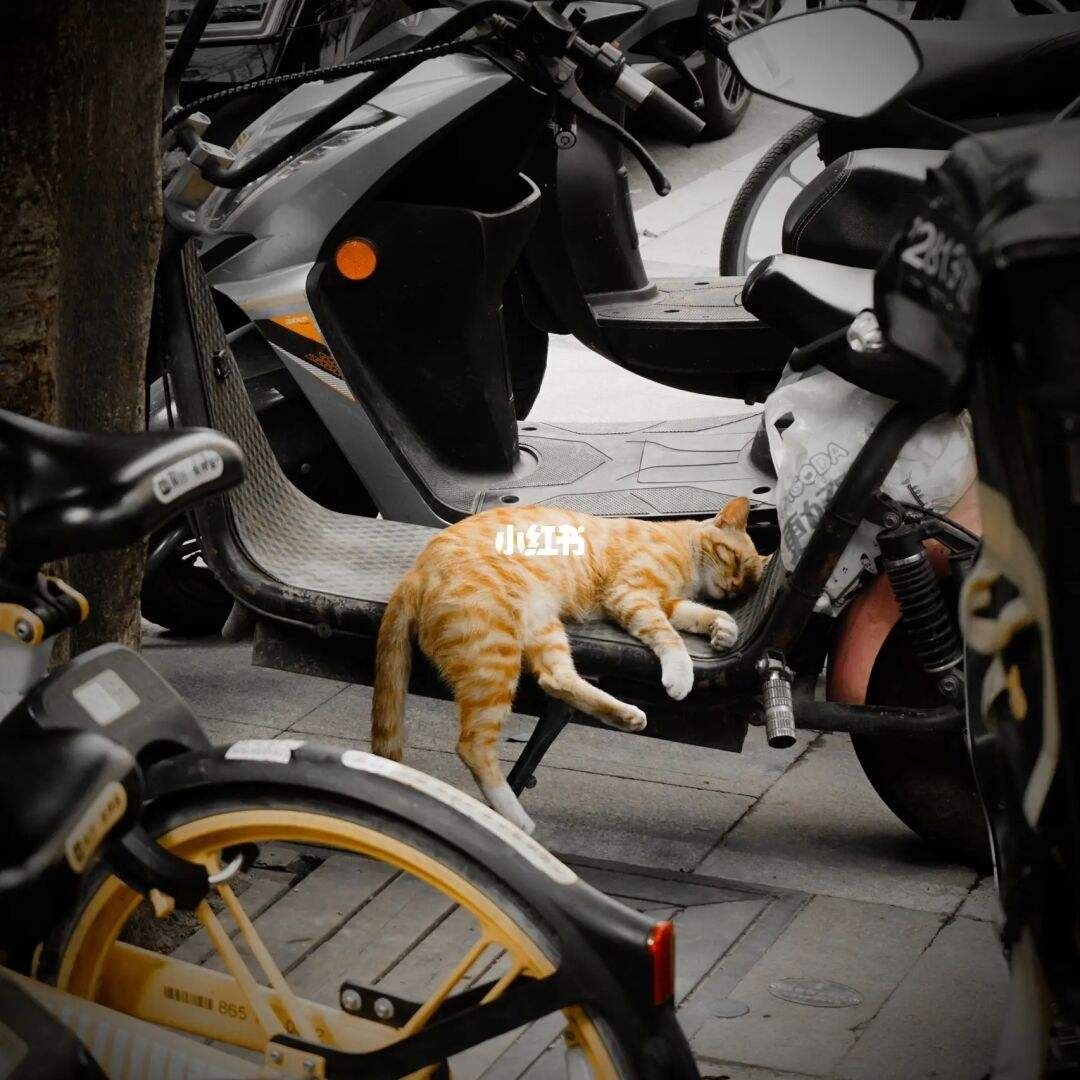cat: (368, 495, 773, 835)
